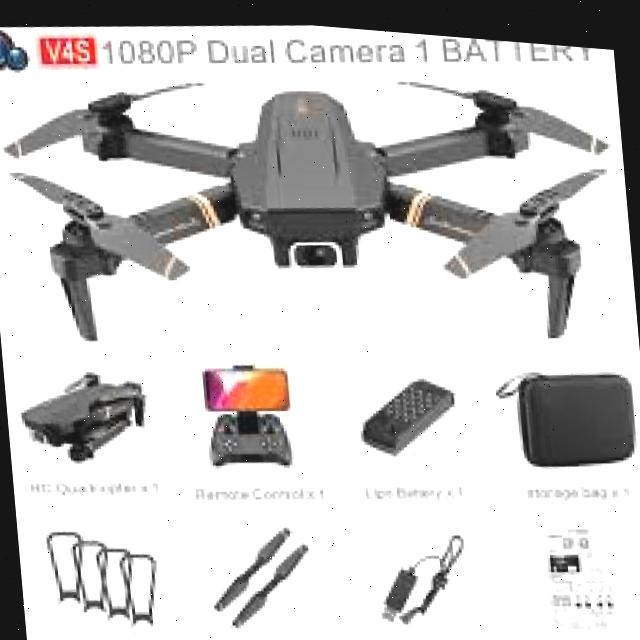drone: (0, 20, 638, 380)
